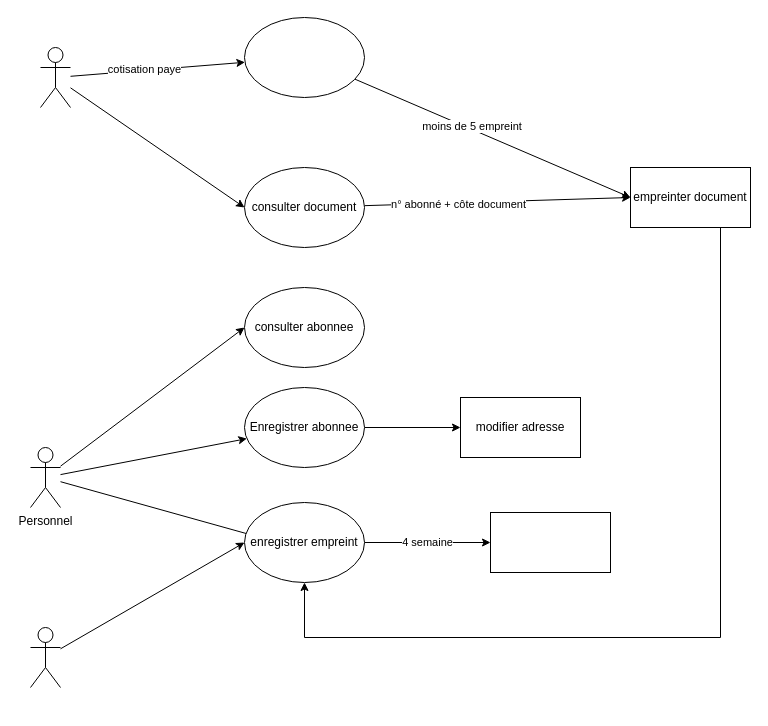
This 768x726 diagram has some shape labels left out. The centre of each missing label's shape, as x and y in pixels:
"Abonnee" belongs at point 55,77.
"Benevoles" belongs at point 45,657.
"carte abonnee" belongs at point 304,57.
"relance" belongs at point 550,542.
